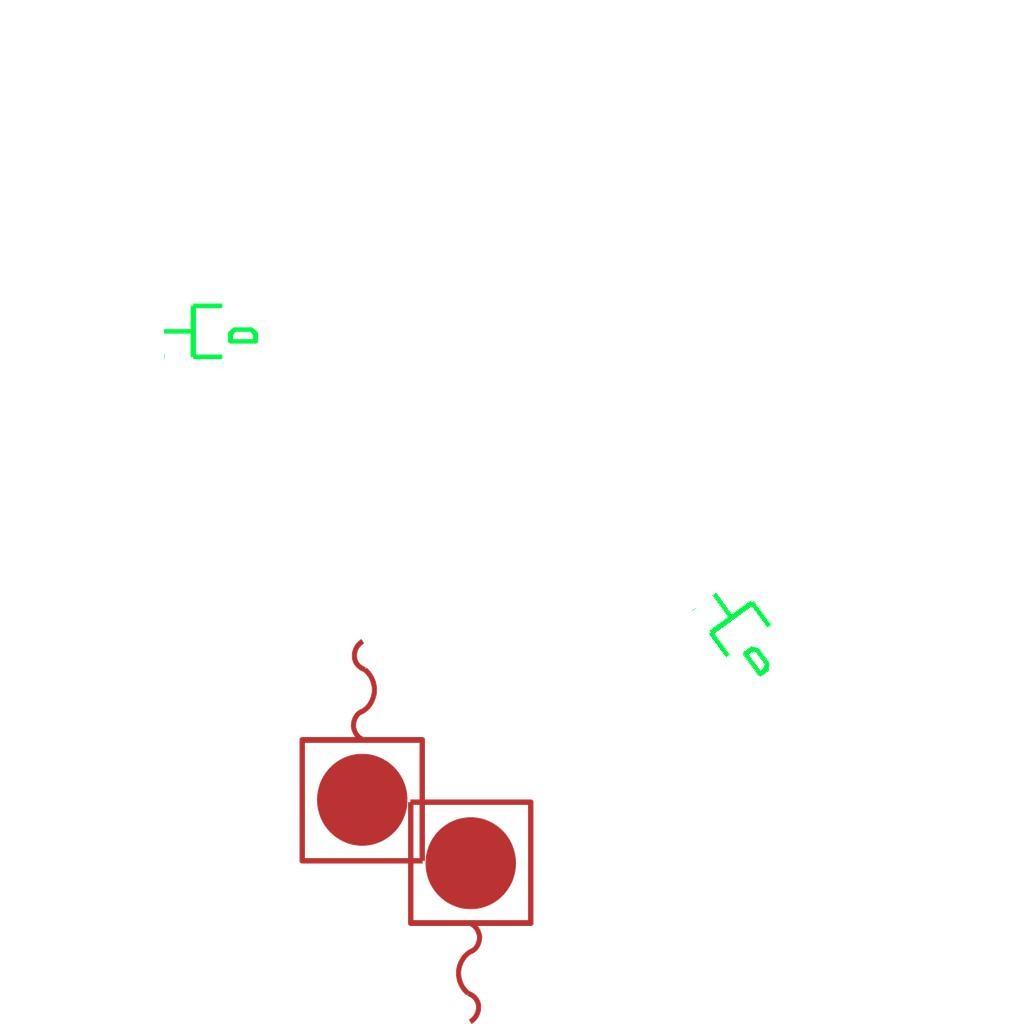Datenanschluss_einfach: (686, 570, 801, 692), (161, 295, 261, 364)
Zugtaster: (292, 628, 436, 872), (397, 791, 541, 1024)
